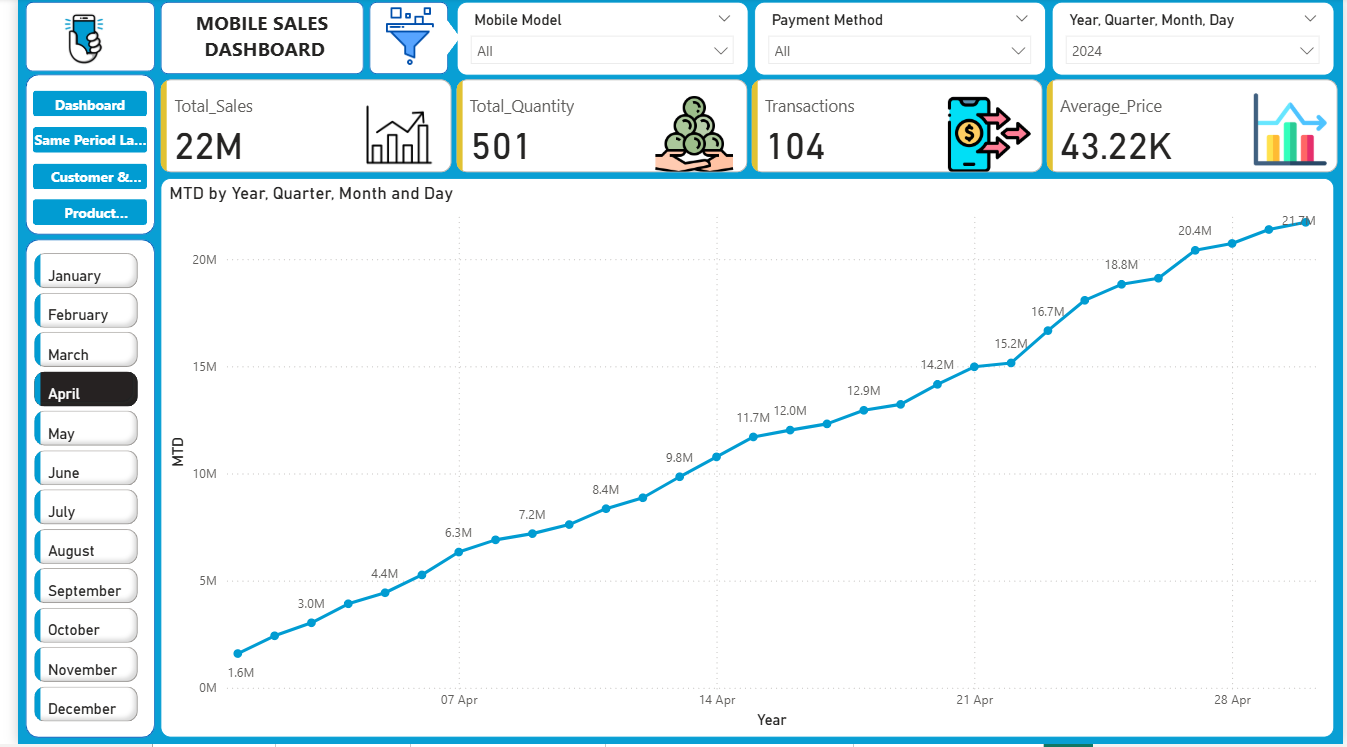

The page's visual inventory and layout, read from the dashboard file:
{"tool":"powerbi","page":{"name":"MTD Report","canvas":[1280,720],"ordinal":1},"visuals":[{"type":"shape","box":[7.5,3.8,125,67.5],"z":0},{"type":"image","box":[23.8,3.8,78.8,71.2],"z":1000},{"type":"shape","box":[7.5,73.8,125,155],"z":2000},{"type":"cardVisual","fields":{"Data":["Sales_Data.Total_Sales","Sales_Data.Total_Quantity","Sales_Data.Transactions","Sales_Data.Average_Price"]},"box":[132.5,73.8,1147.5,100],"z":3000},{"type":"slicer","fields":{"Values":["Sales_Data.Mobile Model"]},"box":[423.8,3.8,281.2,71.2],"z":4000},{"type":"slicer","fields":{"Values":["Sales_Data.Payment Method"]},"box":[710,3.8,281.2,71.2],"z":5000},{"type":"slicer","fields":{"Values":["Custom_Calendar.Date.Variation.Date Hierarchy.Year","Custom_Calendar.Date.Variation.Date Hierarchy.Quarter","Custom_Calendar.Date.Variation.Date Hierarchy.Month","Custom_Calendar.Date.Variation.Date Hierarchy.Day"]},"box":[997.5,3.8,272.5,71.2],"z":6000},{"type":"shape","box":[338.8,3.8,76.2,70],"z":7000},{"type":"image","box":[337.5,3.8,81.2,66.2],"z":8000},{"type":"shape","box":[397.5,17.5,30,40],"z":9000},{"type":"shape","box":[137.5,3.8,196.2,70],"z":10000},{"type":"textbox","box":[156.2,6.2,162.5,63.8],"z":11000},{"type":"lineChart","fields":{"Y":["Sales_Data.MTD"],"Category":["Custom_Calendar.Date.Variation.Date Hierarchy.Year","Custom_Calendar.Date.Variation.Date Hierarchy.Quarter","Custom_Calendar.Date.Variation.Date Hierarchy.Month","Custom_Calendar.Date.Variation.Date Hierarchy.Day"]},"box":[137.5,173.8,1132.5,540],"z":12000},{"type":"shape","box":[7.5,232.5,125,481.2],"z":13000},{"type":"advancedSlicerVisual","fields":{"Values":["Custom_Calendar.Date.Variation.Date Hierarchy.Month"]},"box":[11.2,241.2,110,472.5],"z":14000},{"type":"pageNavigator","box":[15,88.8,110,130],"z":15000}]}

Visuals, with their boxes in screenshot pixels (x1, y1, x2, y2), scaled from the page's 1280x720 canvas onto the 1347x747 screenshot:
shape: x1=8 y1=4 x2=139 y2=74
image: x1=25 y1=4 x2=108 y2=78
shape: x1=8 y1=77 x2=139 y2=237
cardVisual - Sales_Data.Total_Sales x Sales_Data.Total_Quantity: x1=139 y1=77 x2=1346 y2=180
slicer - Sales_Data.Mobile Model: x1=446 y1=4 x2=742 y2=78
slicer - Sales_Data.Payment Method: x1=747 y1=4 x2=1043 y2=78
slicer - Custom_Calendar.Date.Variation.Date Hierarchy.Year x Custom_Calendar.Date.Variation.Date Hierarchy.Quarter: x1=1050 y1=4 x2=1336 y2=78
shape: x1=357 y1=4 x2=437 y2=77
image: x1=355 y1=4 x2=441 y2=73
shape: x1=418 y1=18 x2=450 y2=60
shape: x1=145 y1=4 x2=351 y2=77
textbox: x1=164 y1=6 x2=335 y2=73
lineChart - Sales_Data.MTD x Custom_Calendar.Date.Variation.Date Hierarchy.Year: x1=145 y1=180 x2=1336 y2=741
shape: x1=8 y1=241 x2=139 y2=740
advancedSlicerVisual - Custom_Calendar.Date.Variation.Date Hierarchy.Month: x1=12 y1=250 x2=128 y2=740
pageNavigator: x1=16 y1=92 x2=132 y2=227
